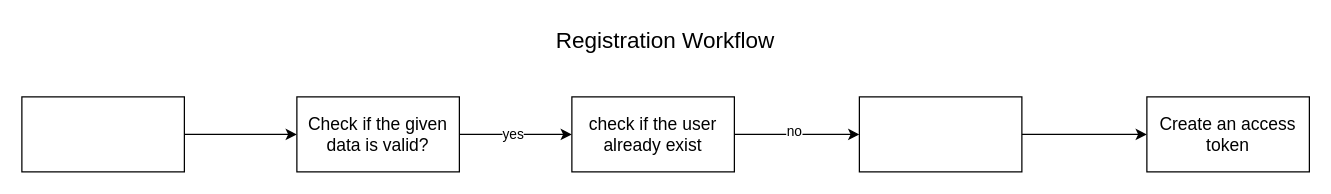
This 1331x194 diagram has some shape labels left out. The shapes that lost their labels are listed below. From the top down, each one's centre as x and y in pixels, then its label:
At [102,134]: "User will send data".
At [940,134]: "Create a new account".
